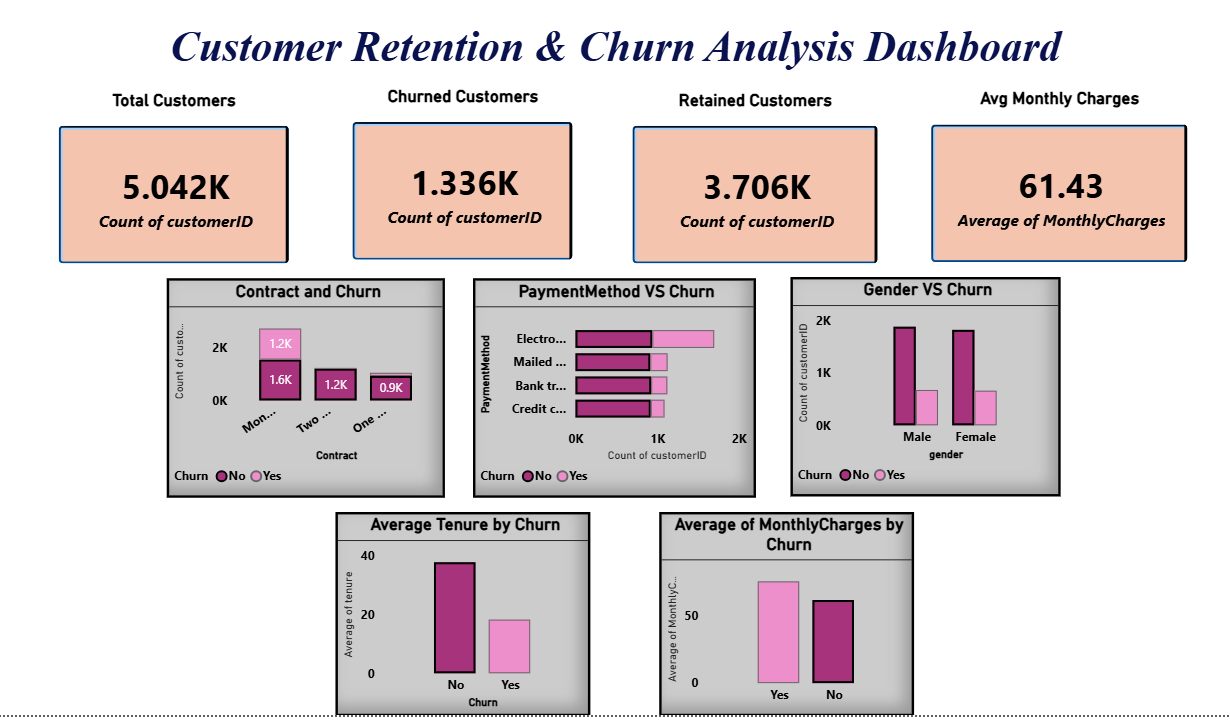

What the dashboard file says about the page in this screenshot:
{"tool":"powerbi","page":{"name":"Page 1","canvas":[1280,720],"ordinal":0},"visuals":[{"type":"textbox","box":[75.5,24.7,1176,71.4],"z":0},{"type":"cardVisual","title":"Total Customers","fields":{"Data":["Count(telco_churn_cleaned.customerID)"]},"box":[93.3,97.4,263.5,190.7],"z":1000},{"type":"cardVisual","title":"Churned Customers","fields":{"Data":["Count(telco_churn_cleaned.customerID)"]},"box":[385.6,93.3,253.9,190.7],"z":2000},{"type":"cardVisual","title":"Retained Customers","fields":{"Data":["Count(telco_churn_cleaned.customerID)"]},"box":[664.2,97.4,278.6,190.7],"z":3000},{"type":"cardVisual","title":"Avg Monthly Charges","fields":{"Data":["Avg(telco_churn_cleaned.MonthlyCharges)"]},"box":[961.9,96.1,289.5,190.7],"z":4000},{"type":"columnChart","title":"Contract and Churn","fields":{"Category":["telco_churn_cleaned.Contract"],"Y":["CountNonNull(telco_churn_cleaned.customerID)"],"Series":["telco_churn_cleaned.Churn"]},"box":[218.2,285.4,277.2,218.2],"z":5000},{"type":"barChart","title":" PaymentMethod VS Churn","fields":{"Category":["telco_churn_cleaned.PaymentMethod"],"Y":["CountNonNull(telco_churn_cleaned.customerID)"],"Series":["telco_churn_cleaned.Churn"]},"box":[522.8,285.4,281.3,218.2],"z":6000},{"type":"clusteredColumnChart","title":" Gender VS Churn","fields":{"Category":["telco_churn_cleaned.gender"],"Y":["CountNonNull(telco_churn_cleaned.customerID)"],"Series":["telco_churn_cleaned.Churn"]},"box":[838.4,284,269,218.2],"z":7000},{"type":"clusteredColumnChart","title":"Average Tenure by Churn","fields":{"Category":["telco_churn_cleaned.Churn"],"Y":["Avg(telco_churn_cleaned.tenure)"]},"box":[385.6,517.3,253.9,203.1],"z":8000},{"type":"clusteredColumnChart","fields":{"Category":["telco_churn_cleaned.Churn"],"Y":["Avg(telco_churn_cleaned.MonthlyCharges)"]},"box":[708.1,517.3,253.9,203.1],"z":9000}]}

Visuals, with their boxes in screenshot pixels (x1, y1, x2, y2):
textbox: pyautogui.locateOnScreen(36, 24, 1191, 94)
"Total Customers" cardVisual: pyautogui.locateOnScreen(53, 96, 312, 283)
"Churned Customers" cardVisual: pyautogui.locateOnScreen(340, 92, 590, 279)
"Retained Customers" cardVisual: pyautogui.locateOnScreen(614, 96, 888, 283)
"Avg Monthly Charges" cardVisual: pyautogui.locateOnScreen(907, 94, 1191, 282)
"Contract and Churn" columnChart: pyautogui.locateOnScreen(176, 280, 448, 495)
" PaymentMethod VS Churn" barChart: pyautogui.locateOnScreen(475, 280, 752, 495)
" Gender VS Churn" clusteredColumnChart: pyautogui.locateOnScreen(785, 279, 1050, 493)
"Average Tenure by Churn" clusteredColumnChart: pyautogui.locateOnScreen(340, 508, 590, 708)
clusteredColumnChart - telco_churn_cleaned.Churn x Avg(telco_churn_cleaned.MonthlyCharges): pyautogui.locateOnScreen(657, 508, 907, 708)
